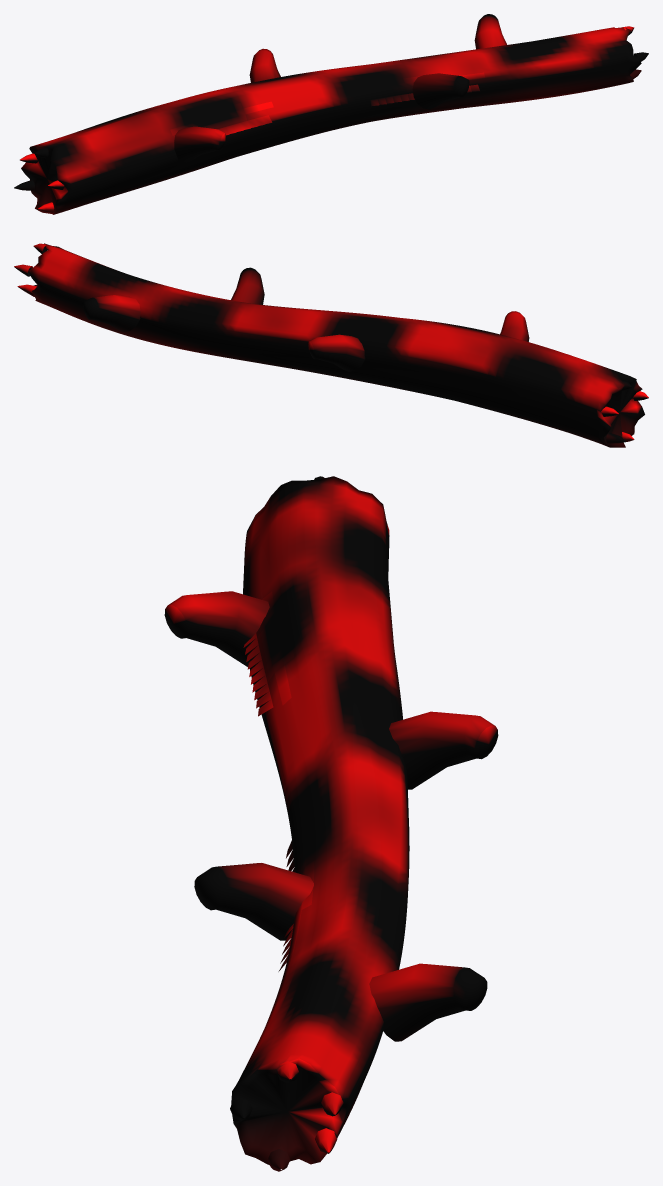
Rendered from SM_FallenLogStump_01.fbx.
3 views of the same model, one above another, from view 1: azimuth 30°, elevation 25°; view 2: azimuth 150°, elevation 25°; view 3: azimuth 270°, elevation 25° (orthographic). The views are drawn at different scales.
Parts seen in each view (by area): view 1: SM_FallenLogStump_01; view 2: SM_FallenLogStump_01; view 3: SM_FallenLogStump_01.
Boxes of the visible parts, x1,y1,x2,y2 form: SM_FallenLogStump_01: (14, 14, 648, 214); SM_FallenLogStump_01: (14, 243, 648, 447); SM_FallenLogStump_01: (164, 476, 498, 1171).
Bounding box in the file's own units: 676 × 161 × 84.18.
